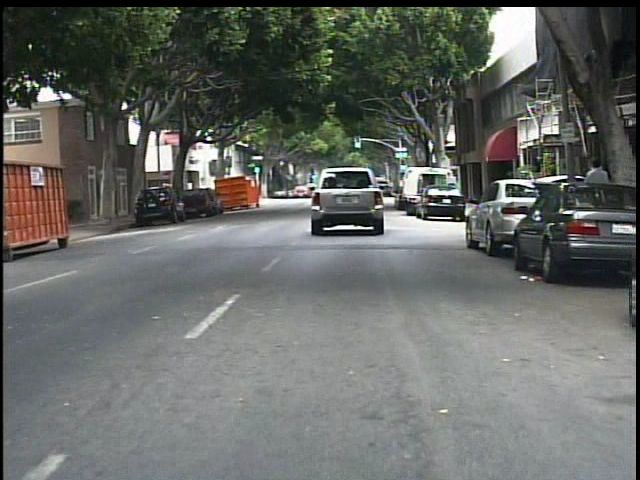person: (579, 156, 612, 240)
